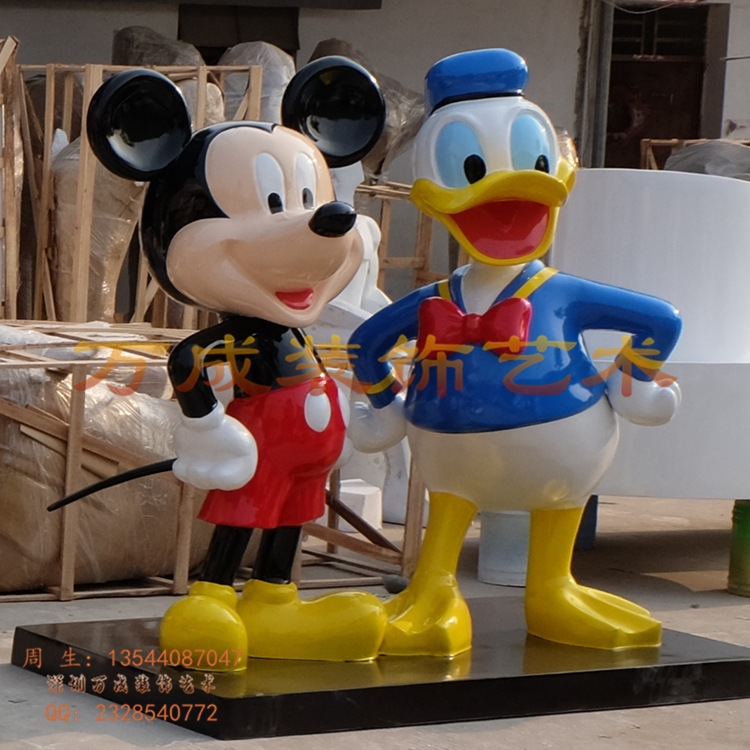Mickey: (81, 52, 386, 329)
